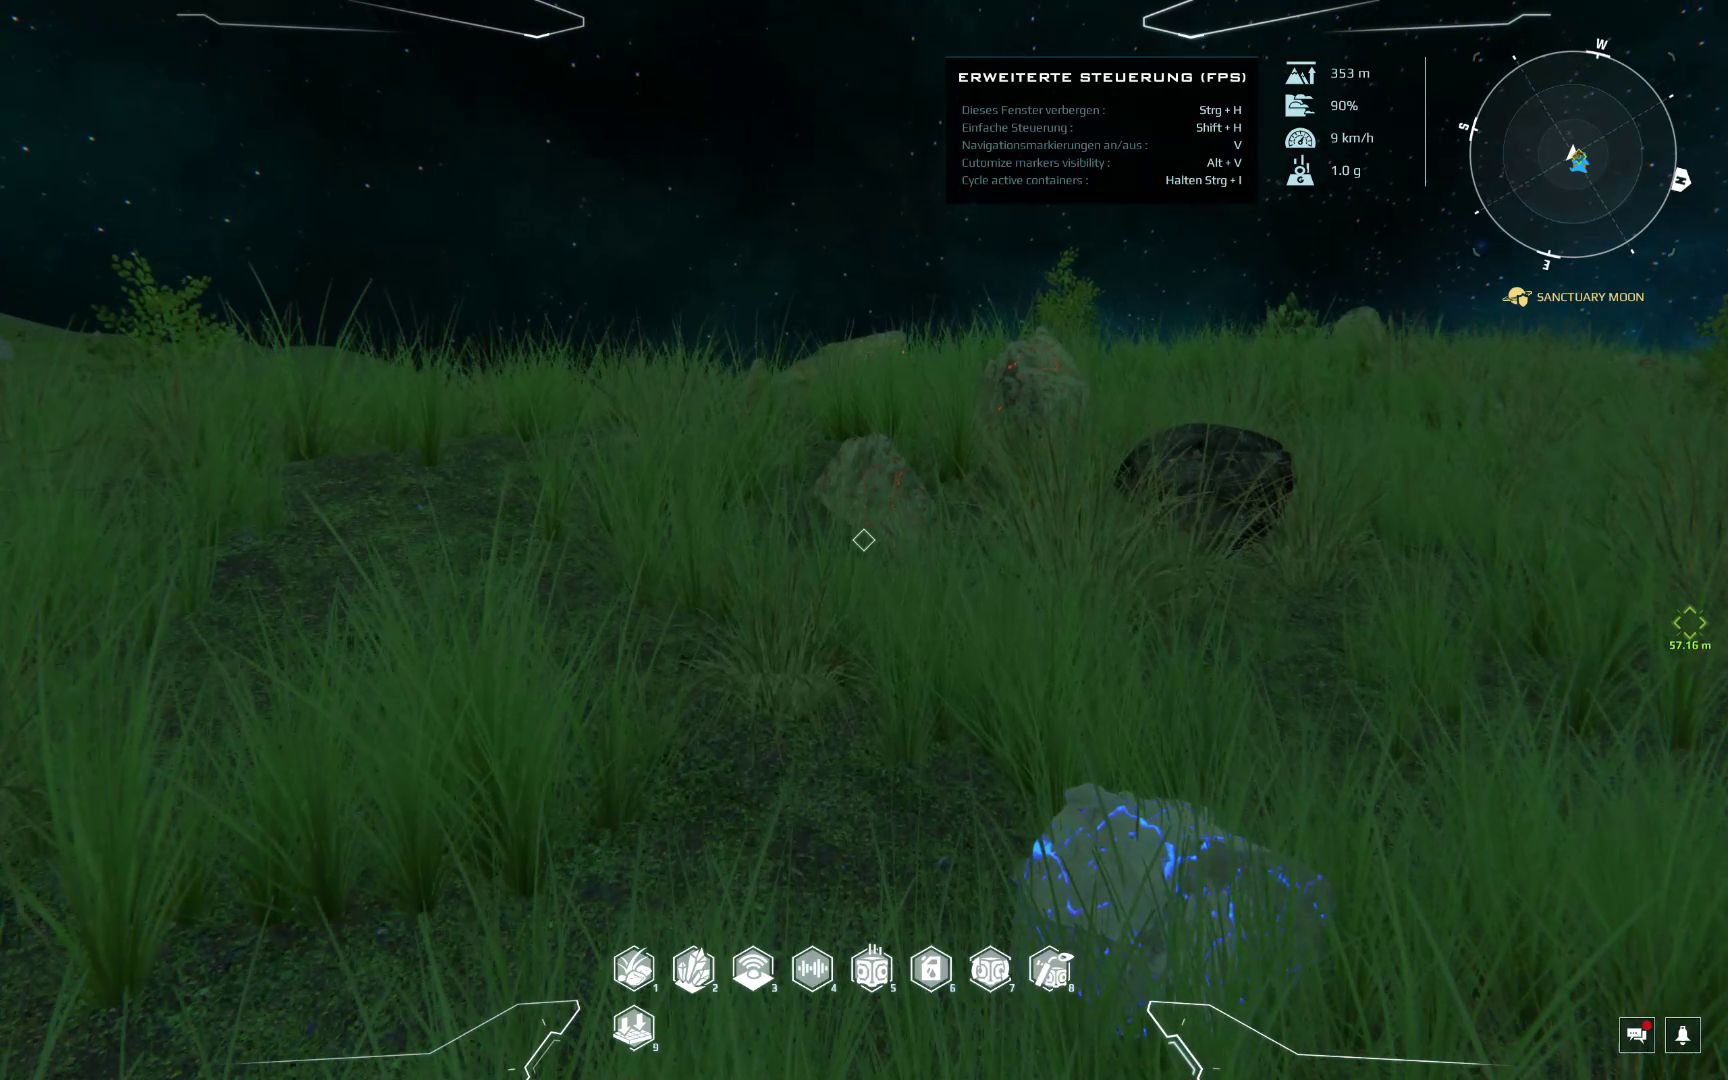Ore: (1016, 779, 1334, 1029), (1118, 423, 1298, 547), (975, 325, 1089, 469), (806, 434, 941, 551), (783, 328, 911, 387)
